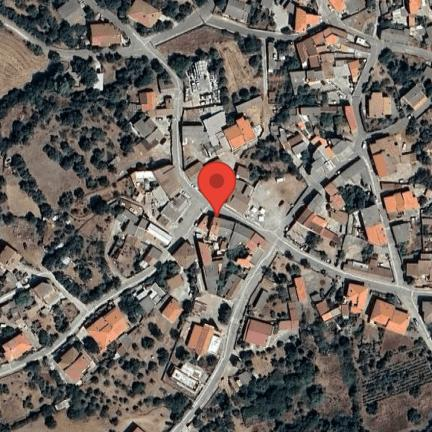area_open: (246, 178, 305, 228), (321, 205, 368, 240), (185, 63, 219, 110), (388, 151, 432, 180), (197, 275, 223, 321), (138, 141, 172, 171), (240, 94, 265, 127), (105, 34, 145, 54), (318, 79, 349, 104), (120, 249, 132, 275)
built: (194, 212, 266, 305), (286, 193, 369, 263), (124, 164, 193, 245), (290, 26, 371, 93), (184, 159, 259, 218), (292, 101, 358, 141), (84, 304, 132, 356), (380, 0, 432, 47), (309, 282, 367, 324), (366, 133, 415, 182), (341, 242, 397, 284), (402, 218, 432, 291), (214, 115, 262, 160), (384, 181, 432, 222), (128, 274, 186, 307), (133, 93, 166, 148), (307, 136, 352, 176), (326, 156, 372, 194), (278, 276, 307, 331), (58, 345, 95, 383), (186, 325, 224, 359), (124, 0, 162, 34), (371, 300, 408, 334), (277, 126, 309, 165), (182, 125, 208, 166), (29, 280, 61, 313), (294, 1, 321, 40), (364, 88, 394, 123), (363, 205, 388, 246), (342, 4, 375, 35), (0, 334, 33, 364), (0, 251, 26, 289), (241, 319, 274, 348), (89, 20, 124, 47), (328, 182, 348, 224), (0, 300, 29, 328), (204, 111, 227, 146), (172, 239, 197, 271), (402, 82, 429, 111), (56, 0, 85, 26), (110, 233, 138, 259), (137, 242, 161, 271), (271, 0, 312, 16), (224, 1, 250, 26), (250, 289, 271, 317), (163, 297, 181, 325), (392, 223, 411, 249), (152, 98, 175, 118), (418, 300, 432, 326), (327, 0, 349, 13), (233, 374, 246, 388)
vegetation_low: (0, 18, 170, 307), (184, 318, 432, 432), (0, 312, 221, 432), (242, 39, 316, 172), (154, 22, 263, 112), (358, 48, 432, 136), (0, 0, 97, 51), (263, 252, 338, 317), (22, 290, 72, 352), (146, 0, 210, 37), (79, 294, 150, 327), (400, 105, 432, 159), (340, 178, 377, 218), (305, 236, 342, 267), (301, 115, 348, 137), (152, 256, 185, 286), (407, 165, 432, 199), (248, 0, 276, 30), (94, 0, 133, 20), (0, 322, 19, 338)
